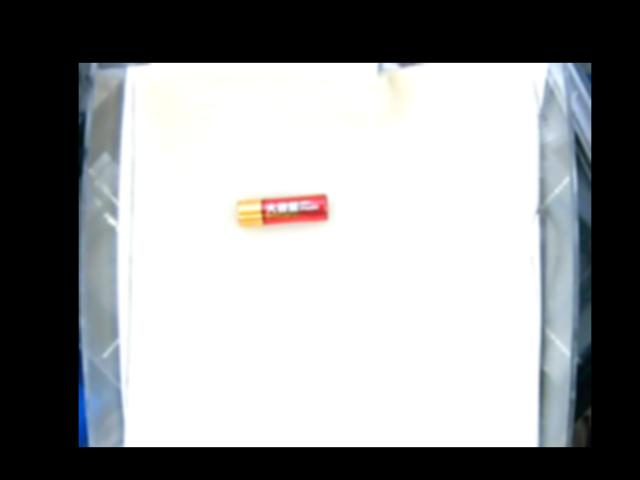Battery: (234, 195, 330, 224)
